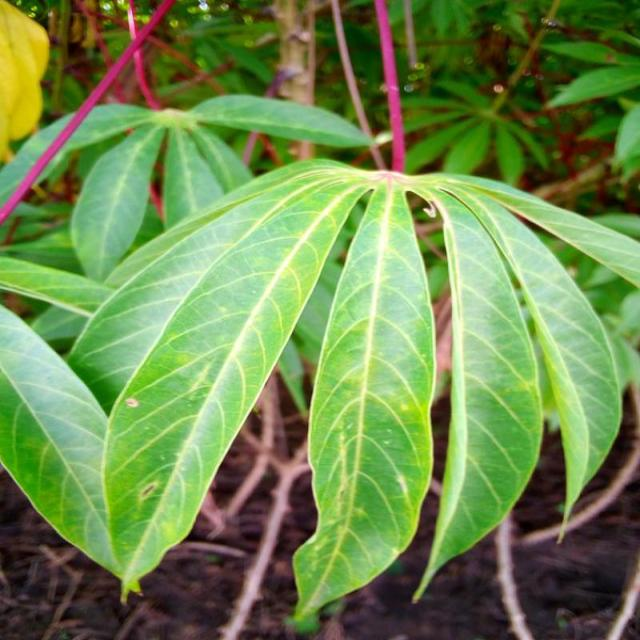cassava leaf: (0, 152, 638, 618), (290, 176, 437, 624)
